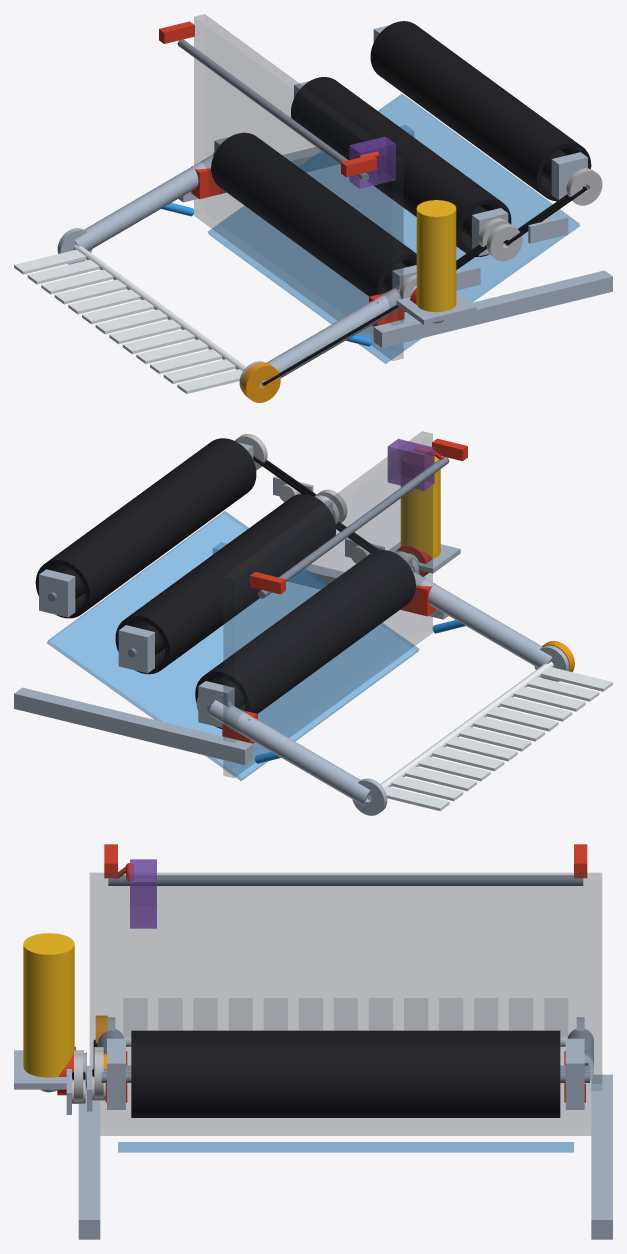
Rendered from biobuzz_single_motor_flipout_intake_deployed.glb.
The picture shows the model from 3 angles, top to bottom: view 1: azimuth 30°, elevation 25°; view 2: azimuth 150°, elevation 25°; view 3: azimuth 270°, elevation 25°; orthographic projection. The views are drawn at different scales.
Parts seen in each view (by area): view 1: chassis_front_datum, ball_guide_floor, fixed_roller_3, fixed_roller_1, front_finger_bar, fixed_roller_2, mount_rail_-190, motor_5203_2402_0019_312rpm_envelope, pivot_arm_+174, pivot_arm_-174, latch_cross_shaft, rev_41_3334_balanced_servo_envelope (+13 smaller); view 2: chassis_front_datum, ball_guide_floor, fixed_roller_3, fixed_roller_1, fixed_roller_2, front_finger_bar, mount_rail_+190, pivot_arm_+174, pivot_arm_-174, motor_5203_2402_0019_312rpm_envelope, latch_cross_shaft, rev_41_3334_balanced_servo_envelope (+9 smaller); view 3: chassis_front_datum, fixed_roller_3, front_finger_bar, motor_5203_2402_0019_312rpm_envelope, latch_cross_shaft, ball_guide_floor, mount_rail_+190, mount_rail_-190, rev_41_3334_balanced_servo_envelope, fixed_roller_1, fixed_roller_2, dual_bearing_block_3_+170 (+3 smaller).
Part boxes in pixels (x1=…): chassis_front_datum: x1=194, y1=14, x2=403, y2=360; ball_guide_floor: x1=208, y1=94, x2=579, y2=363; fixed_roller_3: x1=370, y1=21, x2=591, y2=201; fixed_roller_1: x1=211, y1=132, x2=416, y2=311; front_finger_bar: x1=14, y1=244, x2=246, y2=393; fixed_roller_2: x1=291, y1=77, x2=511, y2=256; mount_rail_-190: x1=373, y1=270, x2=612, y2=347; motor_5203_2402_0019_312rpm_envelope: x1=416, y1=200, x2=456, y2=312; pivot_arm_+174: x1=57, y1=151, x2=215, y2=264; pivot_arm_-174: x1=239, y1=273, x2=416, y2=391; latch_cross_shaft: x1=177, y1=39, x2=368, y2=181; rev_41_3334_balanced_servo_envelope: x1=349, y1=136, x2=395, y2=188; chassis_front_datum: x1=223, y1=431, x2=432, y2=777; ball_guide_floor: x1=47, y1=511, x2=418, y2=780; fixed_roller_3: x1=35, y1=438, x2=256, y2=618; fixed_roller_1: x1=195, y1=550, x2=415, y2=728; fixed_roller_2: x1=115, y1=494, x2=335, y2=674; front_finger_bar: x1=367, y1=661, x2=612, y2=811; mount_rail_+190: x1=14, y1=687, x2=253, y2=764; pivot_arm_+174: x1=196, y1=690, x2=387, y2=815; pivot_arm_-174: x1=411, y1=568, x2=569, y2=681; motor_5203_2402_0019_312rpm_envelope: x1=400, y1=456, x2=440, y2=558; latch_cross_shaft: x1=258, y1=456, x2=449, y2=598; rev_41_3334_balanced_servo_envelope: x1=387, y1=438, x2=434, y2=490; chassis_front_datum: x1=90, y1=873, x2=601, y2=1135; fixed_roller_3: x1=131, y1=1037, x2=560, y2=1117; front_finger_bar: x1=123, y1=998, x2=568, y2=1046; motor_5203_2402_0019_312rpm_envelope: x1=23, y1=933, x2=74, y2=1077; latch_cross_shaft: x1=108, y1=875, x2=583, y2=885; ball_guide_floor: x1=118, y1=1142, x2=573, y2=1152; mount_rail_+190: x1=591, y1=1074, x2=612, y2=1239; mount_rail_-190: x1=78, y1=1076, x2=100, y2=1239; rev_41_3334_balanced_servo_envelope: x1=130, y1=859, x2=156, y2=928; fixed_roller_1: x1=131, y1=1030, x2=560, y2=1033; fixed_roller_2: x1=131, y1=1034, x2=560, y2=1037; dual_bearing_block_3_+170: x1=565, y1=1045, x2=584, y2=1109.
Bounding box in the file's own units: 452 × 225 × 444.
